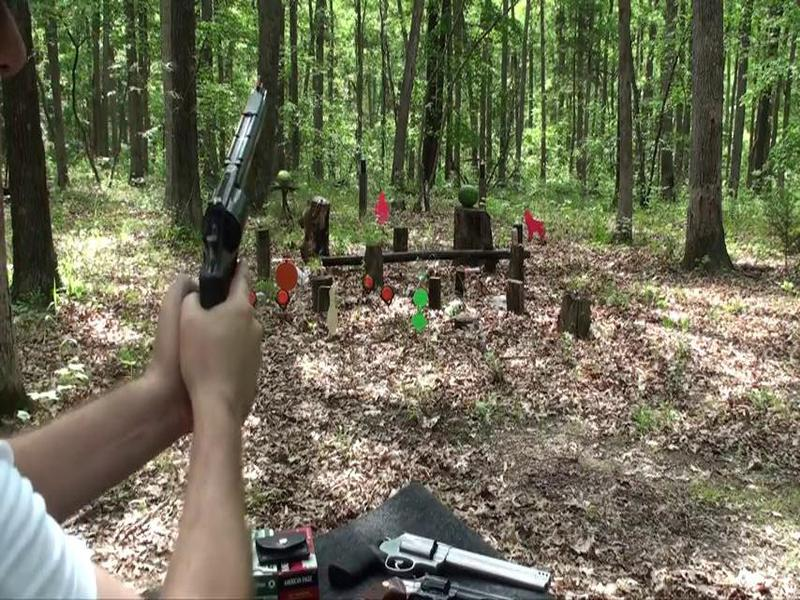Revolver: (167, 88, 304, 323)
